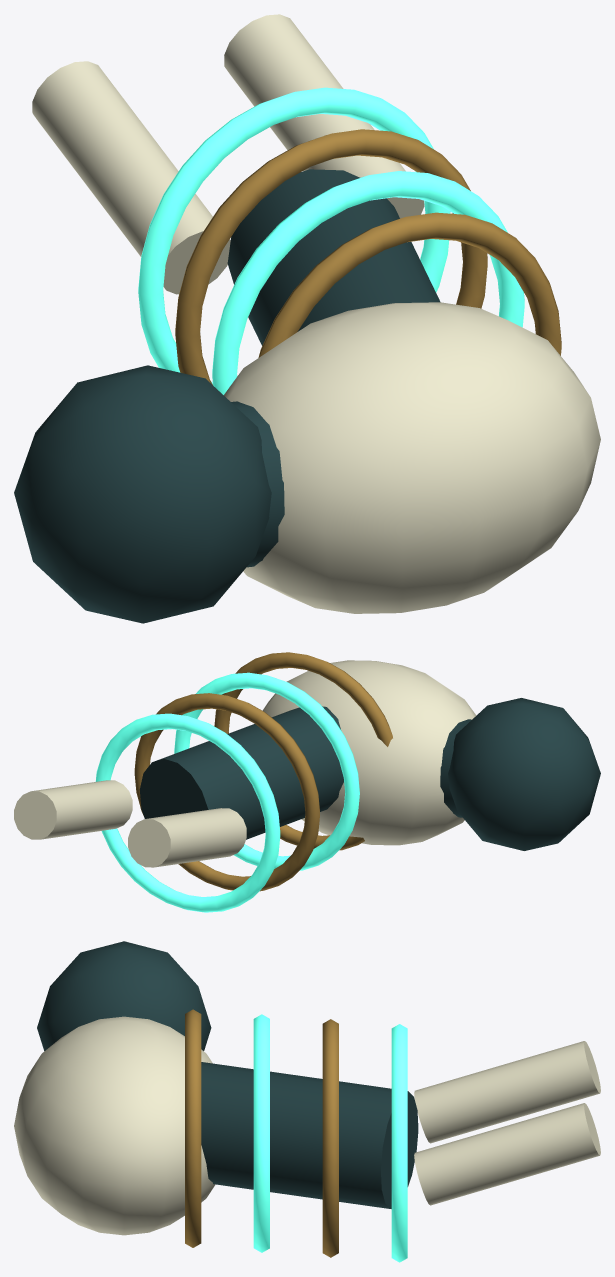
File: arm-arc.glb
The picture shows the model from 3 angles, top to bottom: view 1: azimuth 30°, elevation 25°; view 2: azimuth 150°, elevation 25°; view 3: azimuth 270°, elevation 25°; orthographic projection. The views are drawn at different scales.
Parts seen in each view (by area): view 1: sleeve, socket, fork (×2), coil-neck, coil-3, coil-2, coil-1, coil-0, upper; view 2: sleeve, socket, coil-neck, fork (×2), coil-3, coil-2, coil-1, coil-0, upper; view 3: sleeve, fork (×2), coil-neck, socket, coil-0, coil-3, coil-1, coil-2.
Part boxes in pixels (left/top/right/bottom): sleeve: left=224, top=302, right=600, bottom=613; socket: left=14, top=365, right=271, bottom=623; fork (×2): left=32, top=14, right=424, bottom=294; coil-neck: left=227, top=169, right=440, bottom=345; coil-3: left=138, top=87, right=450, bottom=384; coil-2: left=175, top=129, right=487, bottom=384; coil-1: left=212, top=171, right=524, bottom=394; coil-0: left=258, top=212, right=561, bottom=357; upper: left=231, top=401, right=284, bottom=567; sleeve: left=262, top=660, right=476, bottom=845; socket: left=448, top=698, right=600, bottom=850; coil-neck: left=139, top=706, right=343, bottom=839; fork (×2): left=14, top=780, right=246, bottom=867; coil-3: left=95, top=713, right=280, bottom=912; coil-2: left=134, top=693, right=319, bottom=891; coil-1: left=174, top=672, right=359, bottom=870; coil-0: left=214, top=652, right=392, bottom=850; upper: left=440, top=719, right=471, bottom=817; sleeve: left=14, top=1016, right=215, bottom=1235; fork (×2): left=414, top=1041, right=600, bottom=1205; coil-neck: left=201, top=1062, right=418, bottom=1208; socket: left=37, top=941, right=211, bottom=1050; coil-0: left=185, top=1009, right=201, bottom=1247; coil-3: left=391, top=1024, right=407, bottom=1262; coil-1: left=253, top=1014, right=269, bottom=1252; coil-2: left=322, top=1019, right=338, bottom=1257.
Bounding box in the file's own units: 1.05 × 0.5208 × 1.28.
